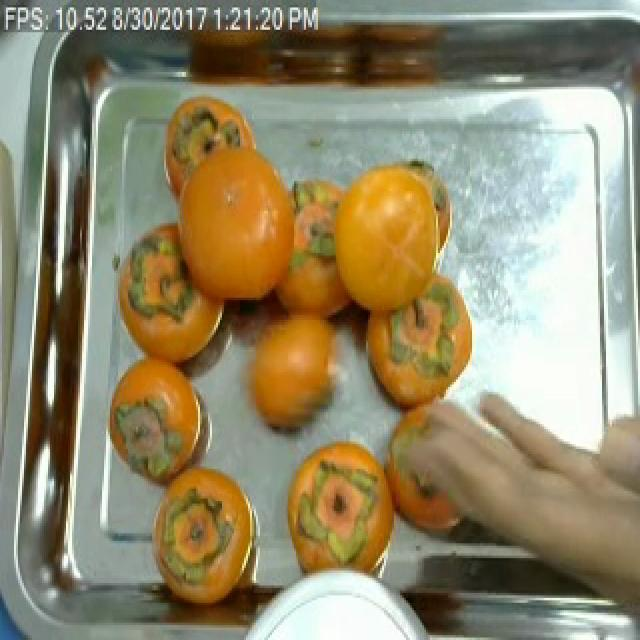Fruit: (152, 79, 302, 273), (270, 424, 416, 600), (136, 452, 272, 628), (320, 149, 464, 298), (388, 258, 480, 414)
